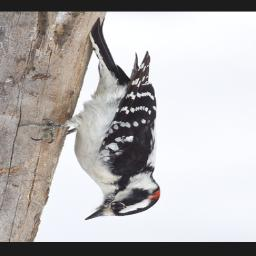Woodpecker: (17, 16, 165, 223)
